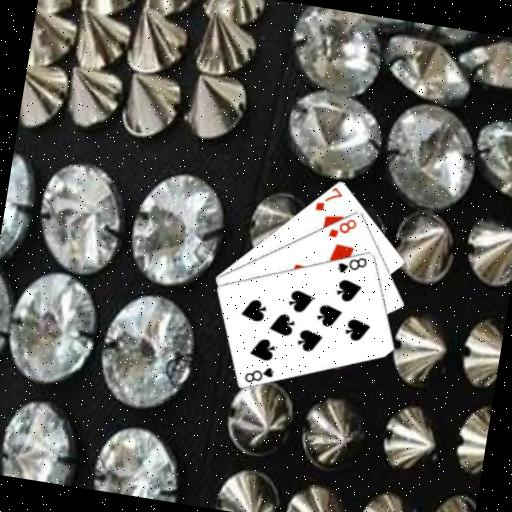7D: (311, 181, 345, 215)
8D: (324, 211, 359, 242)
8S: (240, 359, 277, 387), (334, 249, 370, 277)
